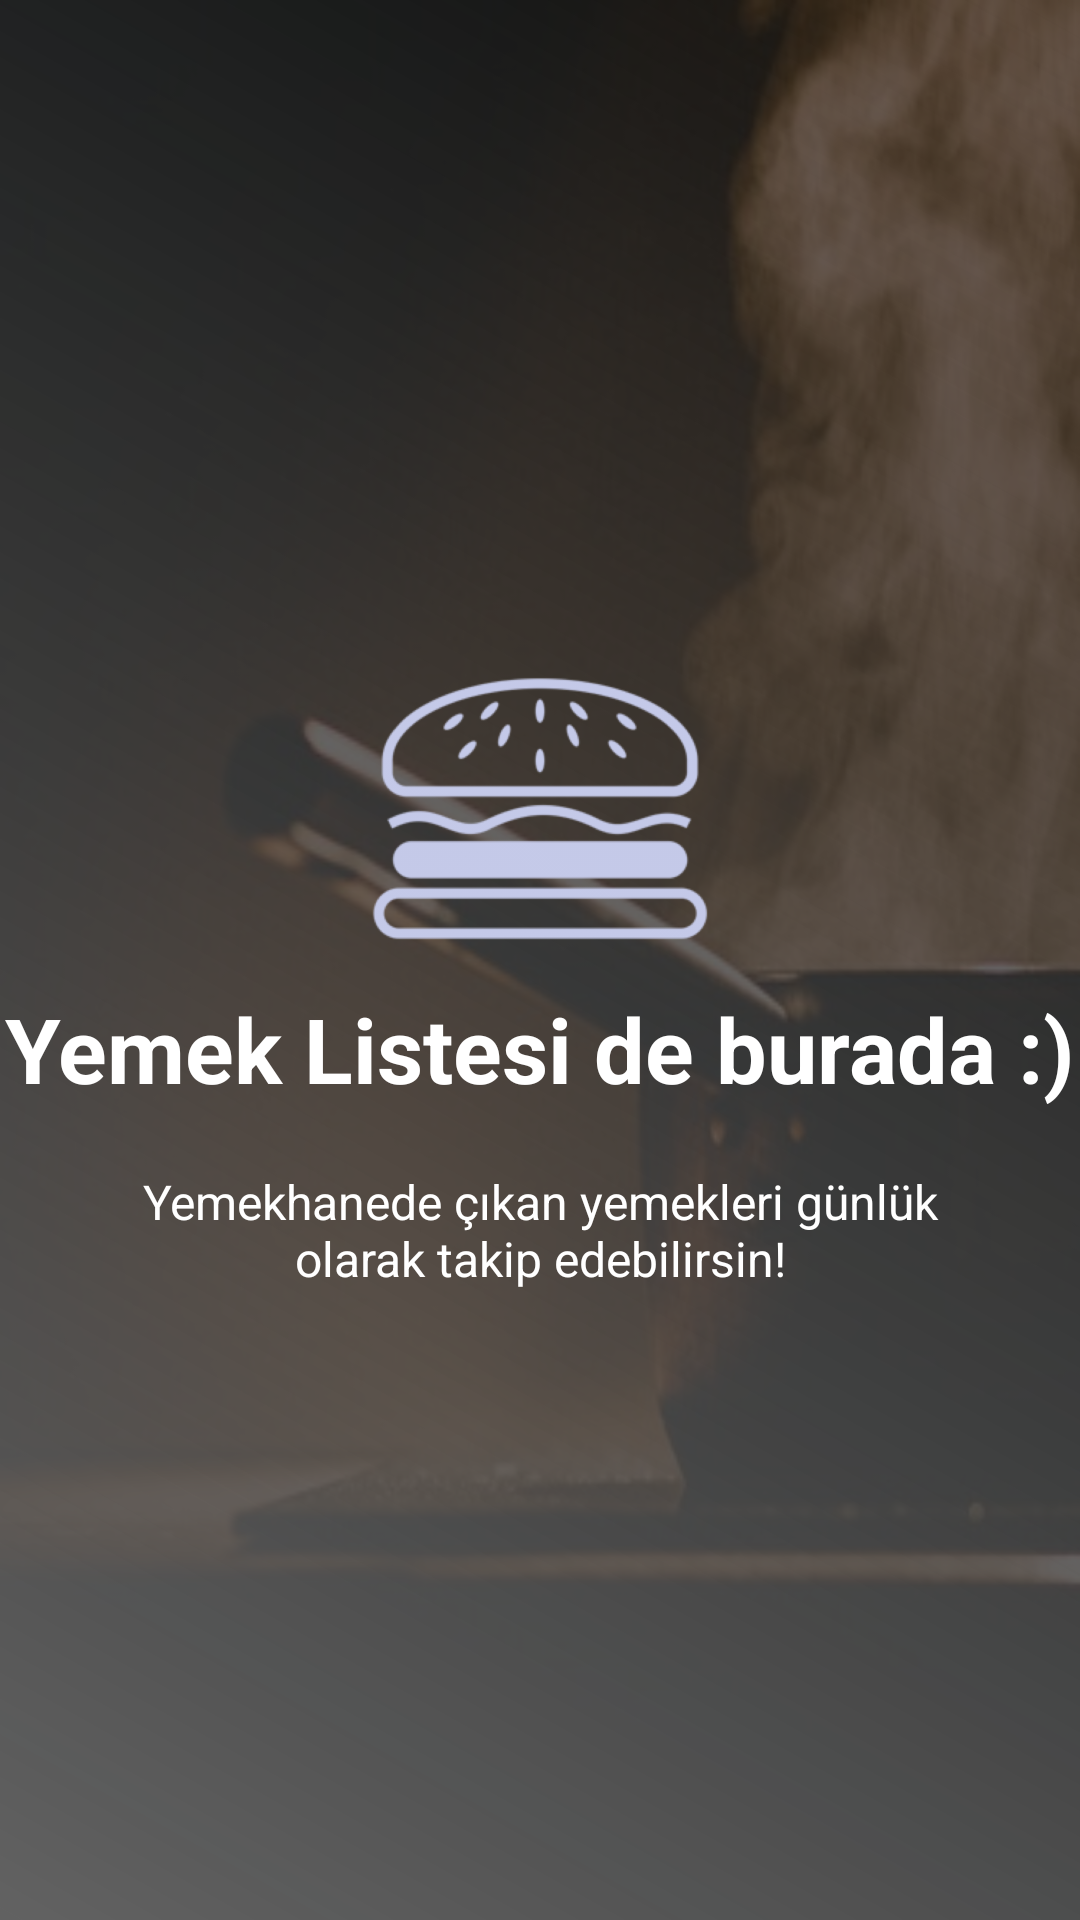

Icon click points for this 1080w x 1920h phone screenshot, format [x,y]:
food: [540,808]
